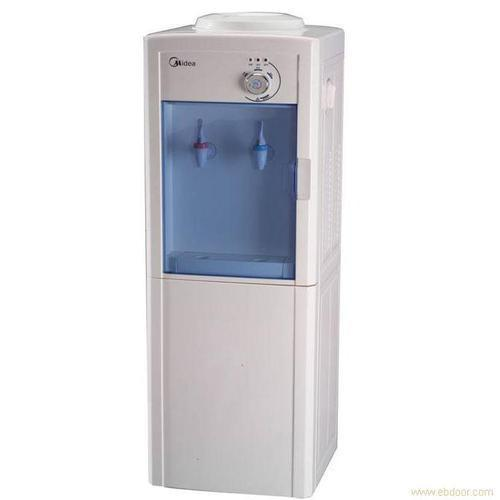Dispenser: (142, 11, 340, 499)
